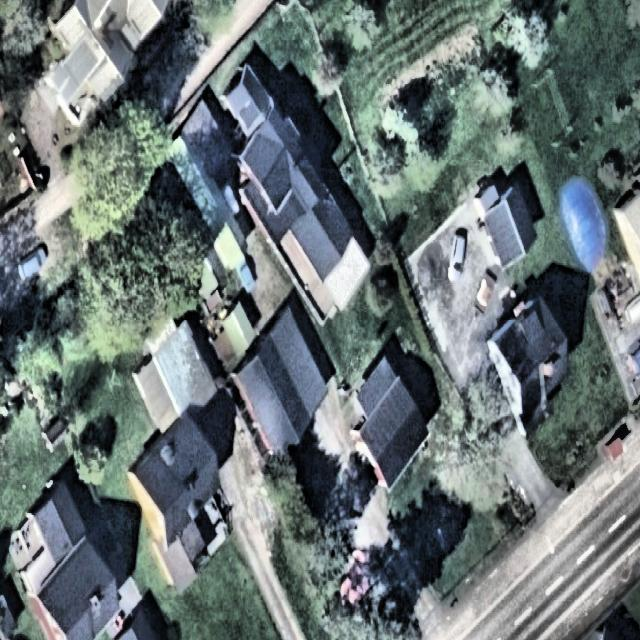roof_pv: (483, 204, 524, 268)
